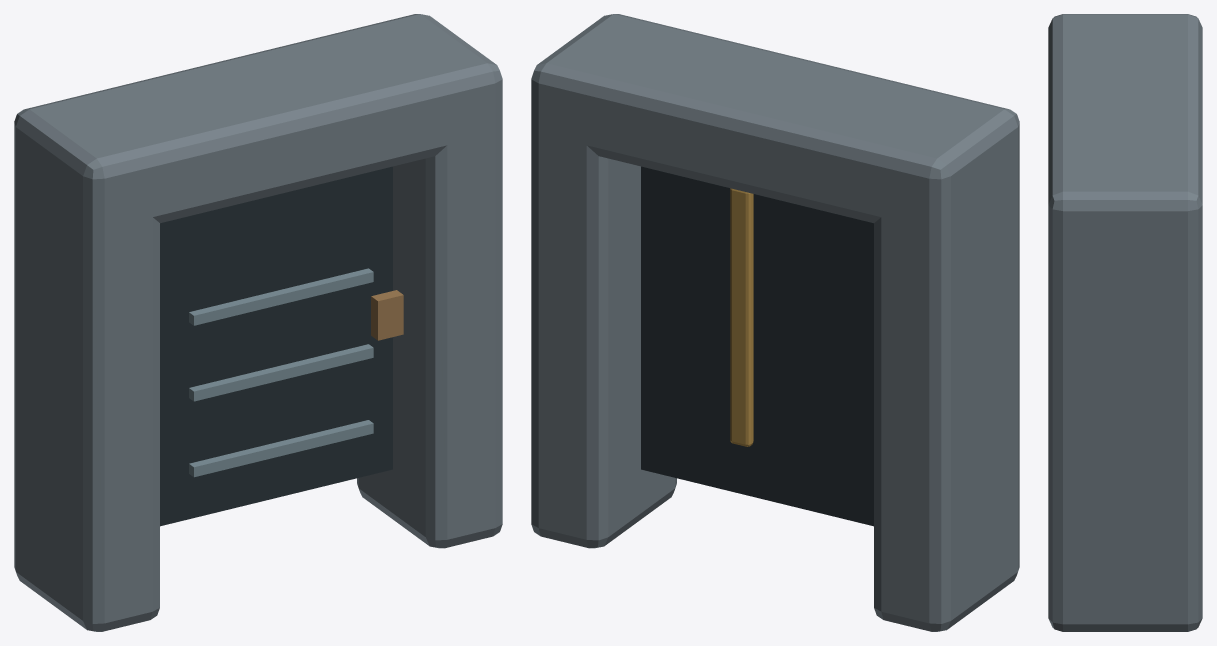
The model's file is Archive-Data-Vault.glb.
3 renders of one model, left to right at view 1: azimuth 30°, elevation 25°; view 2: azimuth 150°, elevation 25°; view 3: azimuth 270°, elevation 25°, orthographic. The views are drawn at different scales.
Parts seen in each view (by area): view 1: Detail_Assembly, Data_Vault_Top, Data_Vault_L, Data_Vault_R; view 2: Detail_Assembly, Data_Vault_Top, Data_Vault_L, Data_Vault_R, Data_Vault_Glow; view 3: Data_Vault_R, Data_Vault_Top.
Boxes of the visible parts, x1,y1,x2,y2 form: Detail_Assembly: (160, 166, 403, 526); Data_Vault_Top: (14, 14, 502, 229); Data_Vault_L: (14, 154, 159, 631); Data_Vault_R: (357, 112, 502, 548); Detail_Assembly: (641, 166, 873, 526); Data_Vault_Top: (531, 14, 1019, 229); Data_Vault_L: (874, 152, 1019, 631); Data_Vault_R: (531, 106, 676, 548); Data_Vault_Glow: (730, 188, 753, 446); Data_Vault_R: (1048, 229, 1202, 631); Data_Vault_Top: (1048, 14, 1202, 257).
Bounding box in the file's own units: 2.44 × 2.64 × 0.84.
